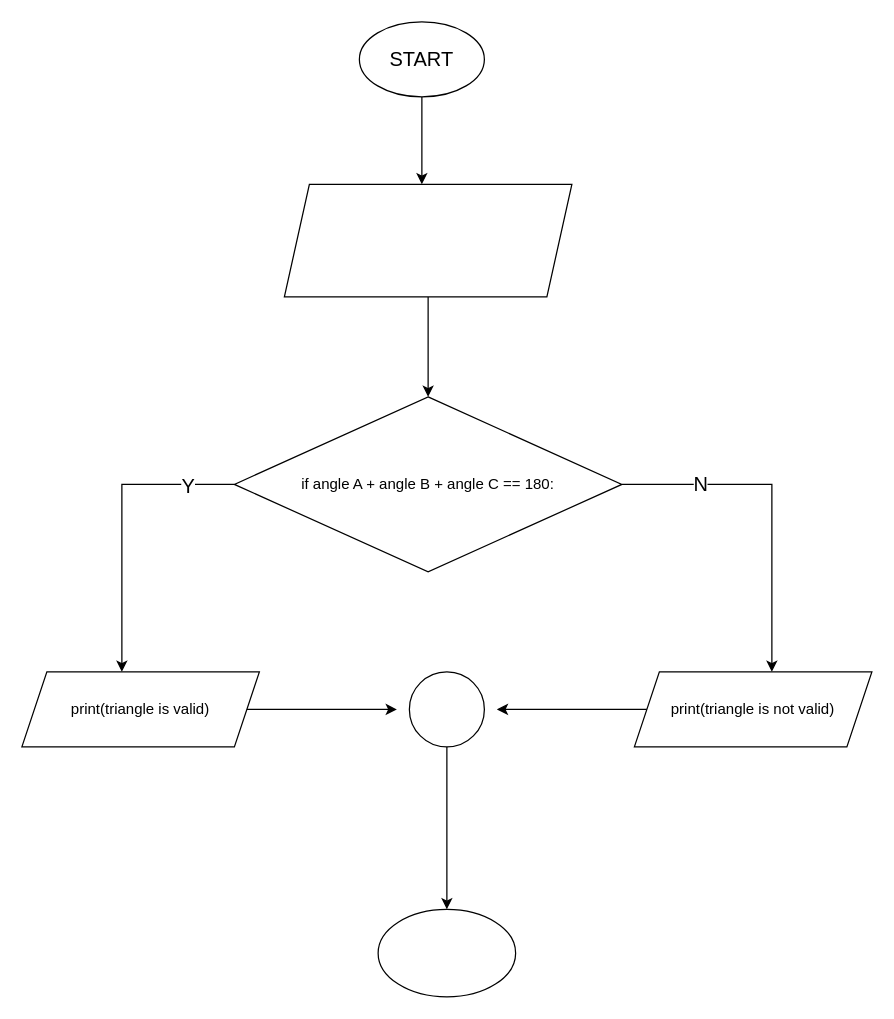
Some shapes in this 894 by 1019 pixel diagram are drawn without their labels. The shapes that lost their labels are listed below. From the top down, each one's centre as x and y in pixels, then its label:
At pixel 427 240: "enter angle A enter angle B enter angle C".
At pixel 446 952: "STOP".
